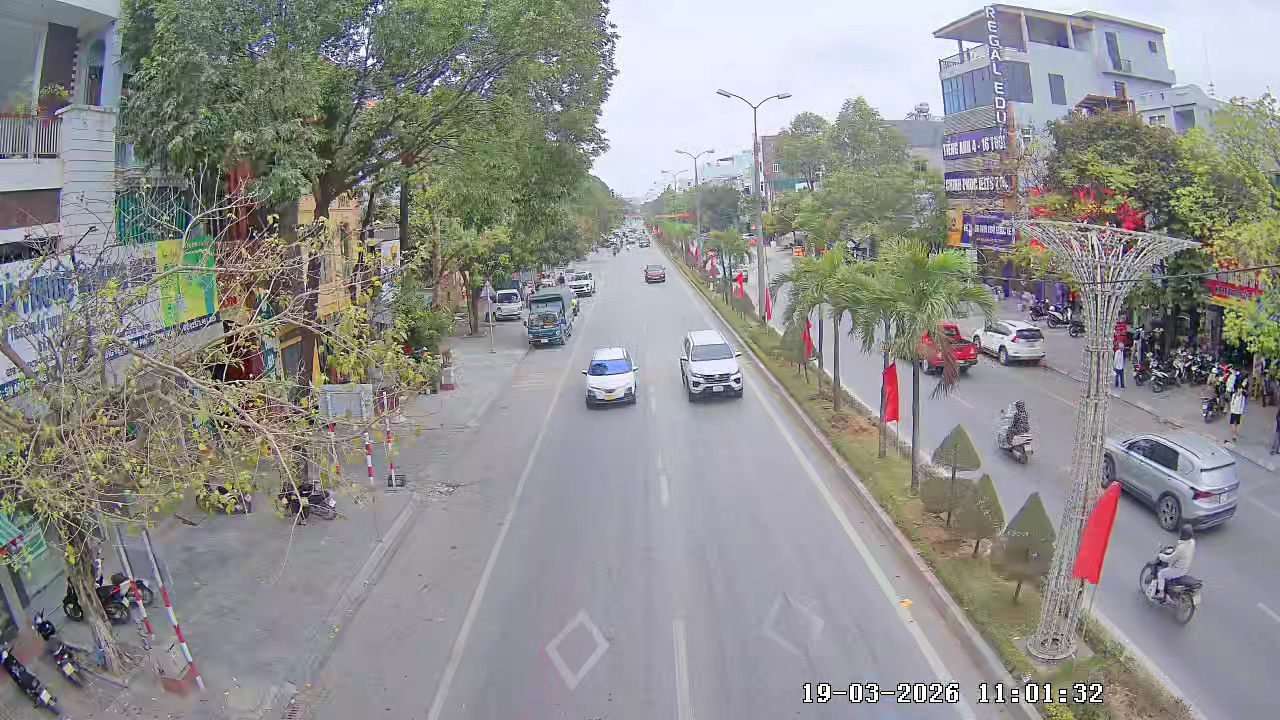car: (1102, 431, 1242, 536), (677, 327, 746, 401), (580, 346, 640, 409), (976, 320, 1048, 368), (567, 266, 596, 299), (641, 260, 667, 284)
motorbike: (1137, 525, 1205, 627), (995, 398, 1039, 466)
truck: (522, 286, 575, 349)
